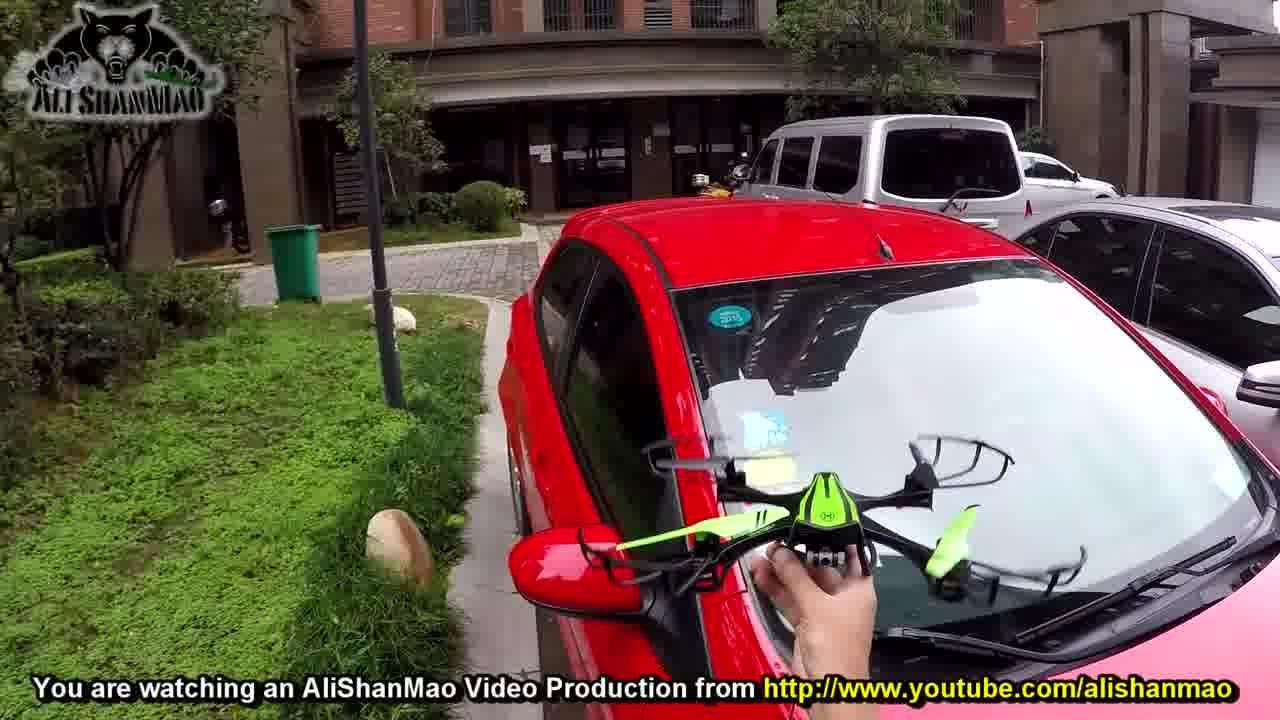Drone: (601, 429, 1079, 615)
